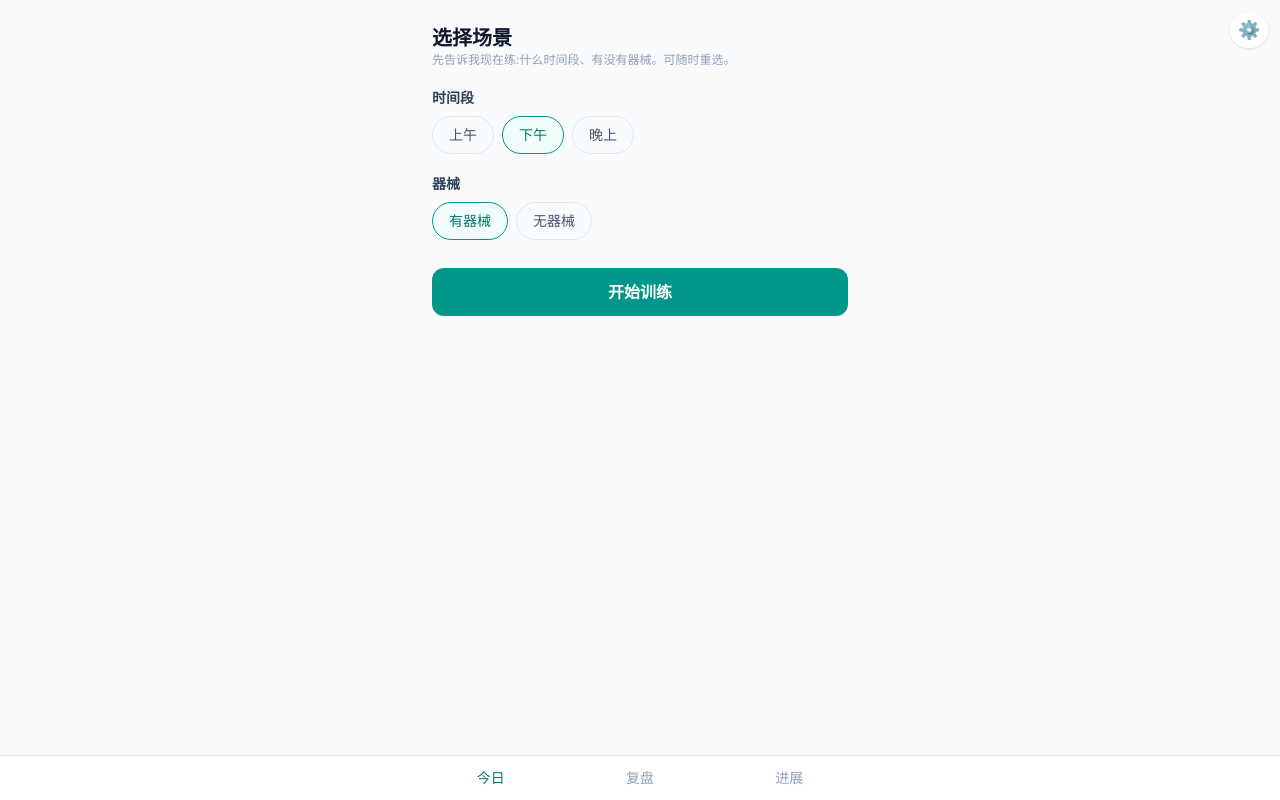
Test: App shell(已确认) › 点击设置齿轮打开设置页(含数据备份)
The width and height of the screenshot is (1280, 800).
expect the heading "选择场景" is shown: met, box [432,26,512,50]
Click the button named "设置".
click(1249, 30)  # box [1230,12,1268,48]
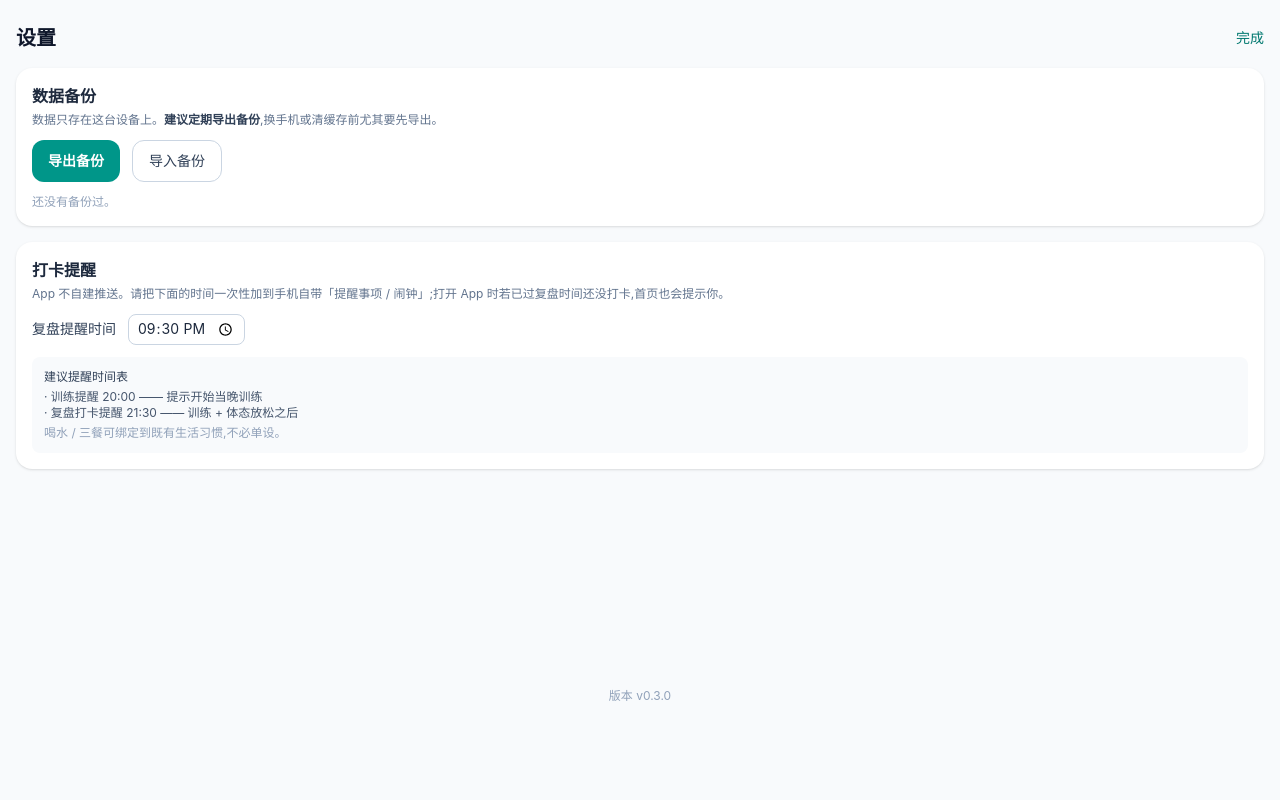
expect the heading "数据备份" is shown: met, box [32,86,96,106]
